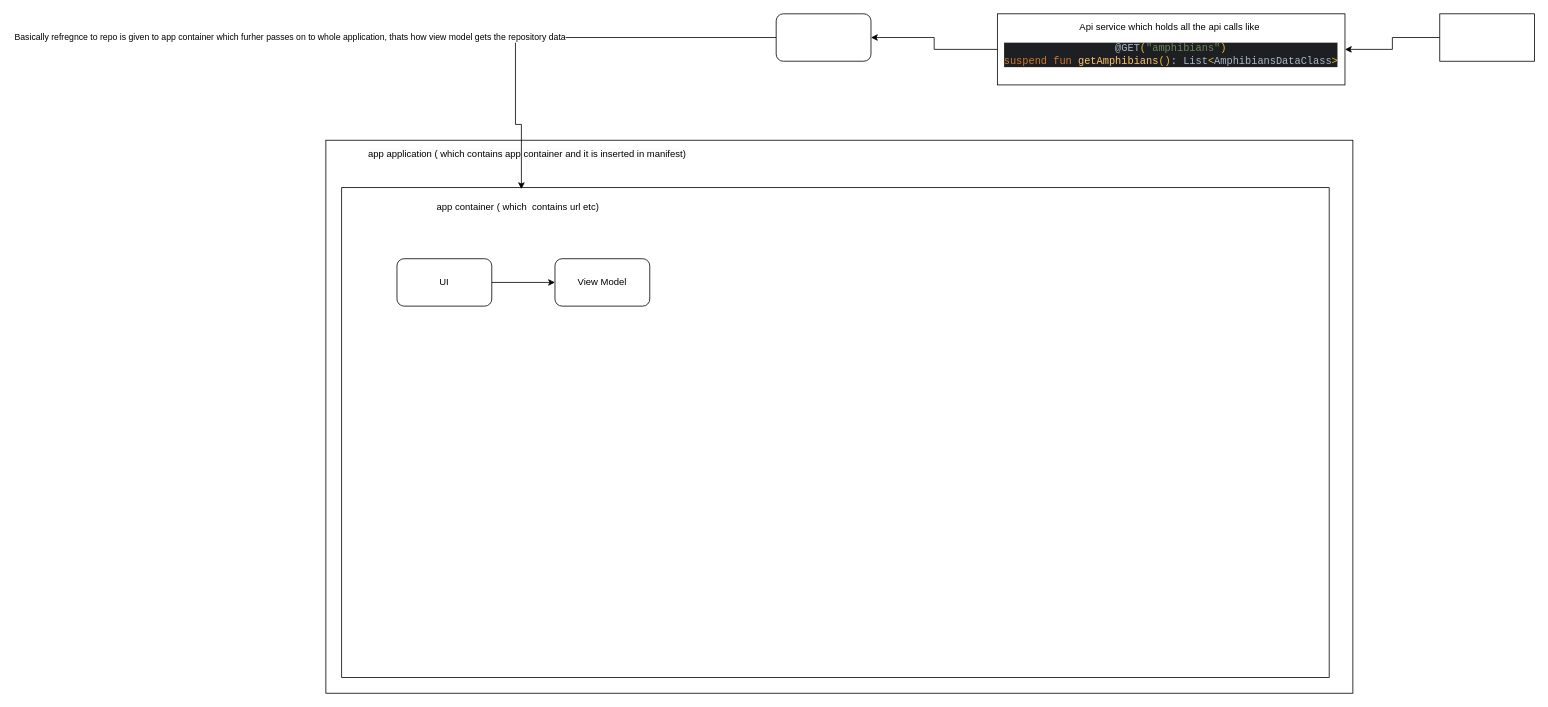
Some shapes in this 1548 by 707 pixel diagram are drawn without their labels. Each missing label, with the centre of its shape:
"Data class, what api eahc object will return or how api will look like" goes at (x=1487, y=37).
"Repository, reference to the api service" goes at (x=823, y=37).
